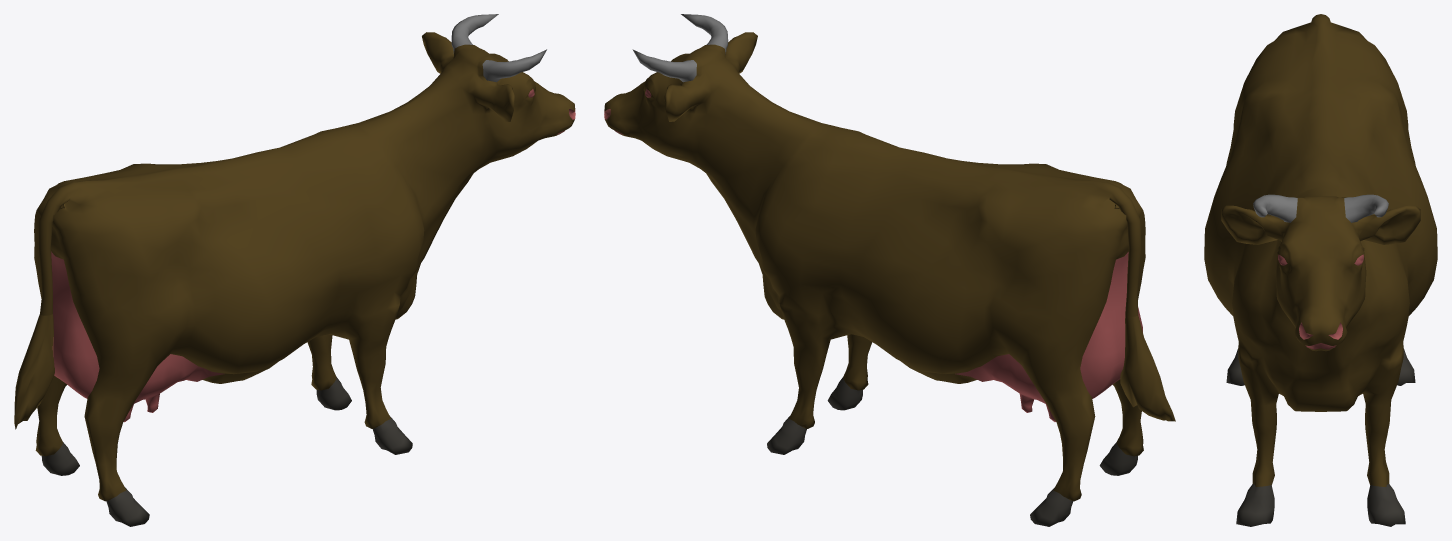
Rendered from cow_triangles.obj.
3 views of the same model, side by side, from view 1: azimuth 30°, elevation 25°; view 2: azimuth 150°, elevation 25°; view 3: azimuth 270°, elevation 25° (orthographic). The views are drawn at different scales.
Visible parts, largest first — view 1: hide_None_(null), udder_None_(null), hoofs_None_(null), tail_None_(null), horns_None_(null); view 2: hide_None_(null), udder_None_(null), hoofs_None_(null), tail_None_(null), horns_None_(null); view 3: hide_None_(null), hoofs_None_(null), horns_None_(null), face_None_(null).
Boxes of the visible parts, <box> form: hide_None_(null): <box>34,32,575,501</box>; udder_None_(null): <box>51,251,224,422</box>; hoofs_None_(null): <box>41,377,412,526</box>; tail_None_(null): <box>14,314,54,429</box>; horns_None_(null): <box>451,14,546,82</box>; hide_None_(null): <box>604,32,1145,501</box>; udder_None_(null): <box>955,252,1142,421</box>; hoofs_None_(null): <box>767,377,1137,526</box>; tail_None_(null): <box>1120,315,1175,421</box>; horns_None_(null): <box>632,14,728,82</box>; hide_None_(null): <box>1204,14,1437,486</box>; hoofs_None_(null): <box>1226,348,1415,526</box>; horns_None_(null): <box>1253,194,1388,222</box>; face_None_(null): <box>1278,254,1363,349</box>.
Size of the model in its own units: 1.04 by 0.6397 by 0.3403.
